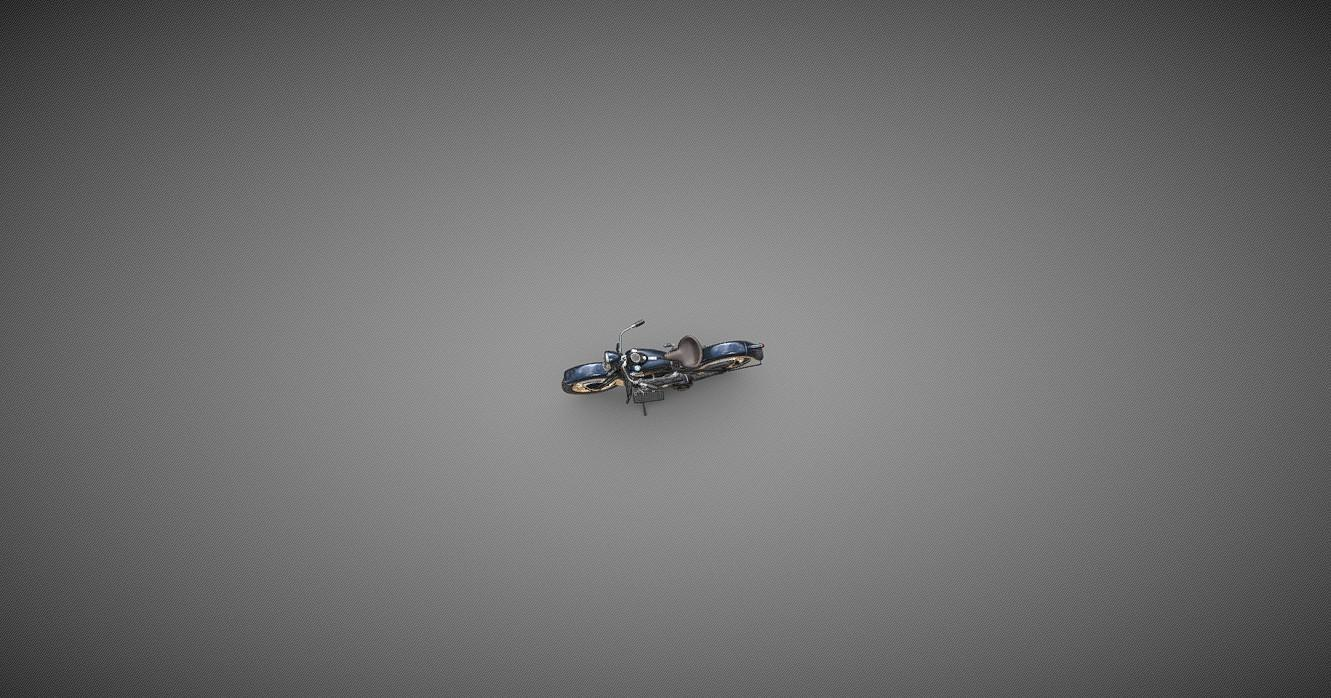Motorcycle: (560, 318, 765, 416)
